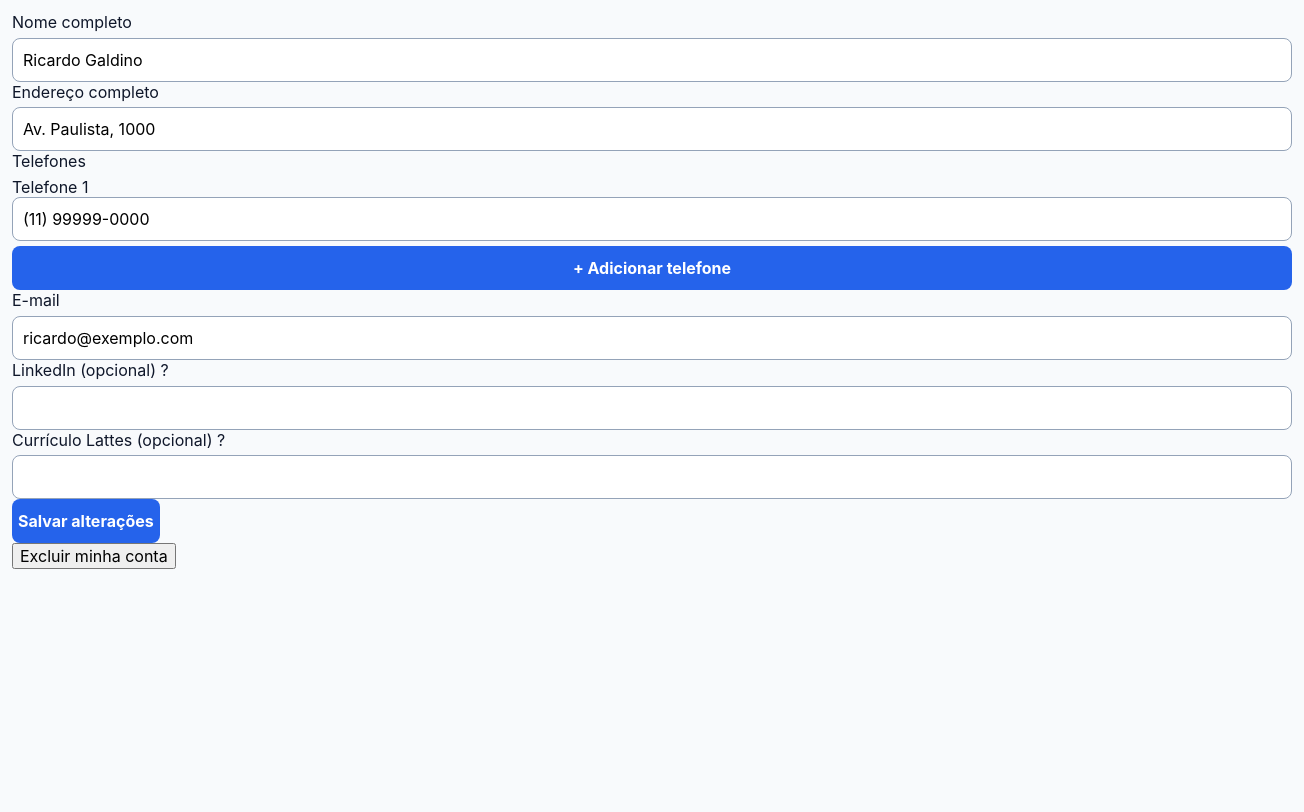
Test case: FormularioEdicaoPerfil › preserva os dados e exibe erro quando o double de atualização falha
Click the button "Salvar alterações" at (86, 521), box [12,499,160,543]
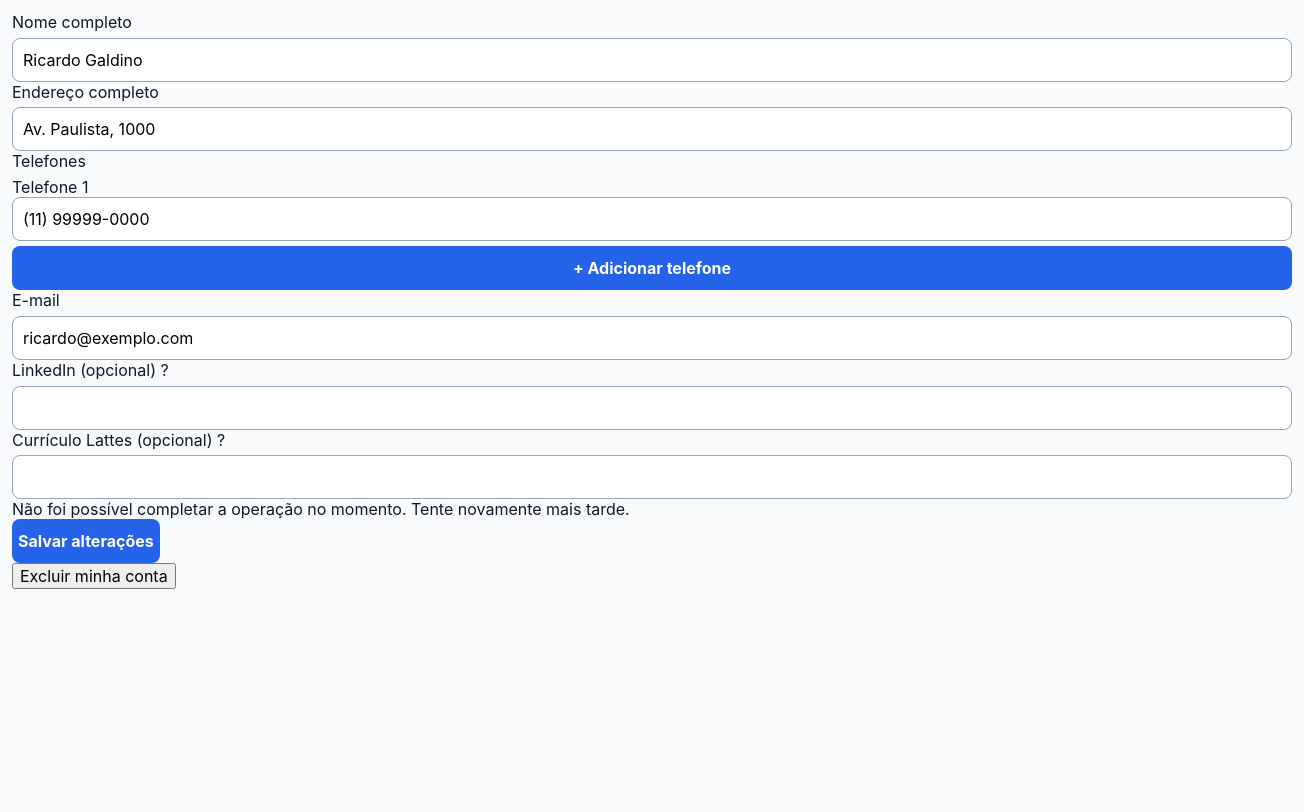
Expected: the field labelled "Nome completo" holds "Ricardo Galdino", [12,38,1292,82]
Expected: the message shows "Não foi possível completar a operação no momento.", [12,499,630,519]
